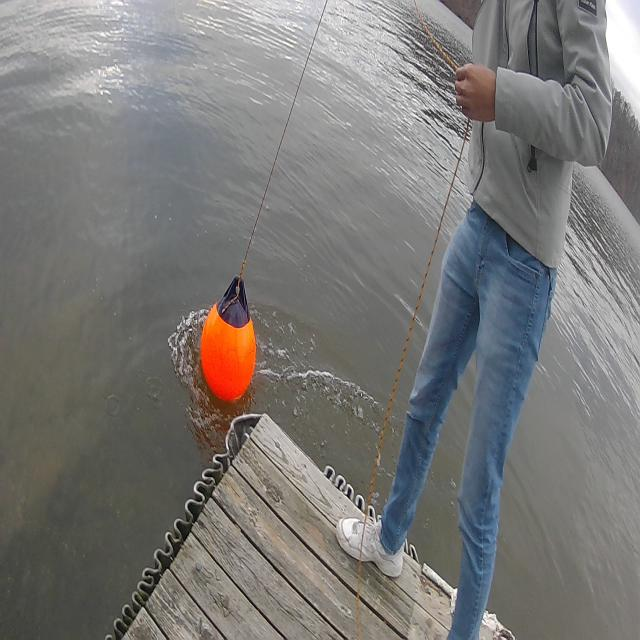Buoy: (197, 270, 261, 408)
